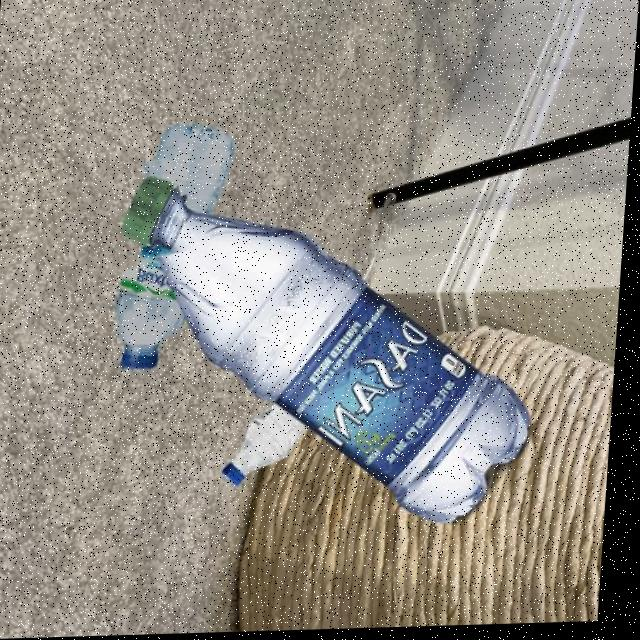litter: (102, 161, 191, 269), (108, 321, 179, 381), (212, 454, 266, 498)
